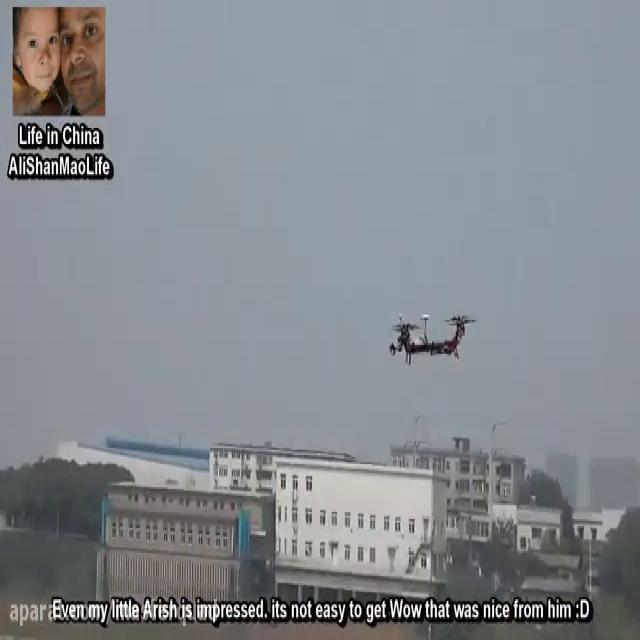drones: (382, 300, 482, 377)
